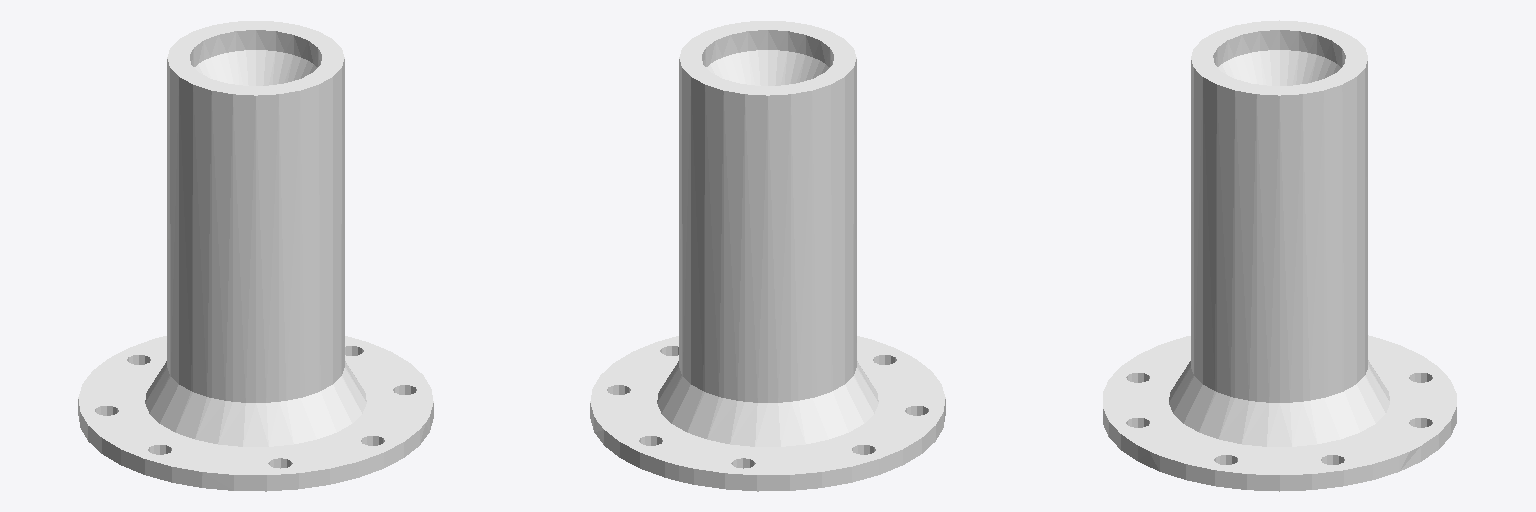
URDF robot description (base):
<?xml version="1.0" encoding="utf-8"?>
<!-- This URDF was automatically created by SolidWorks to URDF Exporter! Originally created by [author] ([email redacted]) 
     Commit Version: 1.6.0-1-g15f4949  Build Version: 1.6.7594.29634
     For more information, please see http://wiki.ros.org/sw_urdf_exporter -->
<robot
  name="base">
  <link
    name="base_link">
    <inertial>
      <origin
        xyz="0 0 0"
        rpy="0 0 0" />
      <mass
        value="1" />
      <inertia
        ixx="1"
        ixy="0"
        ixz="0"
        iyy="1"
        iyz="0"
        izz="1" />
    </inertial>
    <visual>
      <origin
        xyz="0 0 0"
        rpy="0 0 0" />
      <geometry>
        <mesh
          filename="package://ur_assemble/meshes/base.STL" />
      </geometry>
      <material
        name="">
        <color
          rgba="1 1 1 1" />
      </material>
    </visual>
    <collision>
      <origin
        xyz="0 0 0"
        rpy="0 0 0" />
      <geometry>
        <mesh
          filename="package://ur_assemble/meshes/base.STL" />
      </geometry>
    </collision>
  </link>
</robot>

--- What the picture shows (computed from the rendered views, not written in the file) ---
Views: 3 orthographic renders of the robot side by side, from view 1: azimuth 30°, elevation 25°; view 2: azimuth 150°, elevation 25°; view 3: azimuth 270°, elevation 25°.
Model base with 1 links and 0 joints (none), rooted at base_link, posed all joints at 0.
Visible links, largest first — view 1: base_link; view 2: base_link; view 3: base_link.
Boxes of the visible links, x1,y1,x2,y2 form: base_link: [78, 21, 433, 491]; base_link: [590, 21, 945, 491]; base_link: [1103, 20, 1456, 491].
Size in the robot's own frame: 0.08 by 0.0798 by 0.089 metres.
Meshes: 1 distinct files referenced, 1 mesh visuals loaded (1 binary STL).
